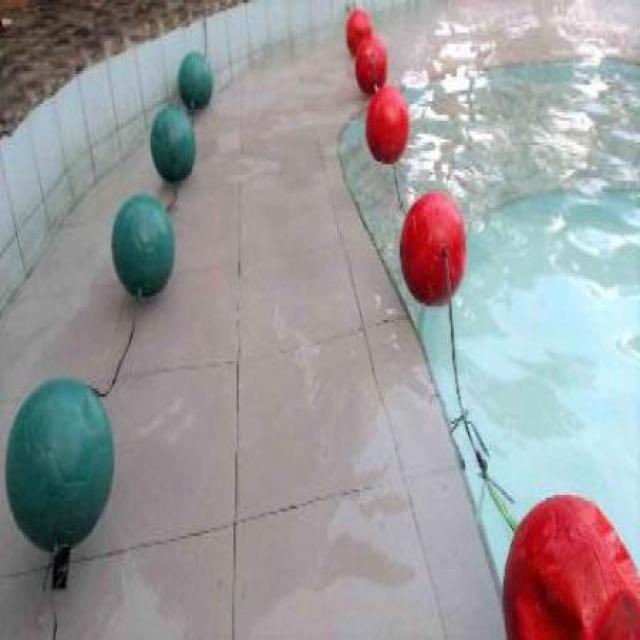buoy: (500, 490, 638, 636), (3, 374, 116, 550), (398, 190, 467, 308), (110, 194, 176, 298), (363, 85, 409, 162), (149, 104, 195, 180), (175, 49, 212, 110), (353, 35, 388, 96), (346, 6, 374, 54)
